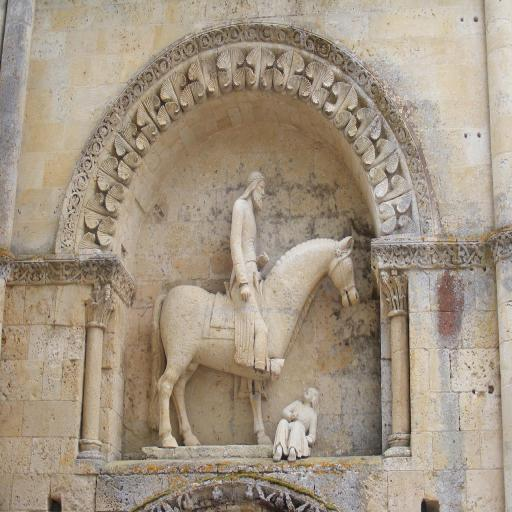Horse: (146, 235, 359, 447)
